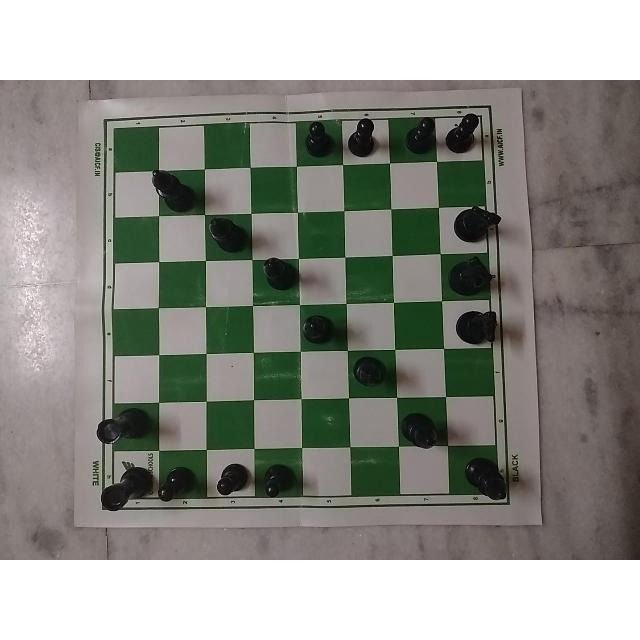black-bishop: (457, 451, 516, 511), (149, 162, 197, 213), (403, 409, 443, 457), (205, 214, 251, 254), (256, 255, 297, 293), (300, 311, 338, 345), (355, 356, 387, 392)
black-knight: (445, 254, 507, 298), (455, 305, 509, 346), (455, 200, 509, 240)
black-pawn: (204, 454, 251, 507), (443, 101, 488, 155), (259, 444, 301, 500), (400, 104, 438, 156), (343, 112, 383, 160), (158, 464, 194, 512), (304, 114, 338, 164)
black-rook: (94, 452, 153, 521), (95, 405, 149, 446)
